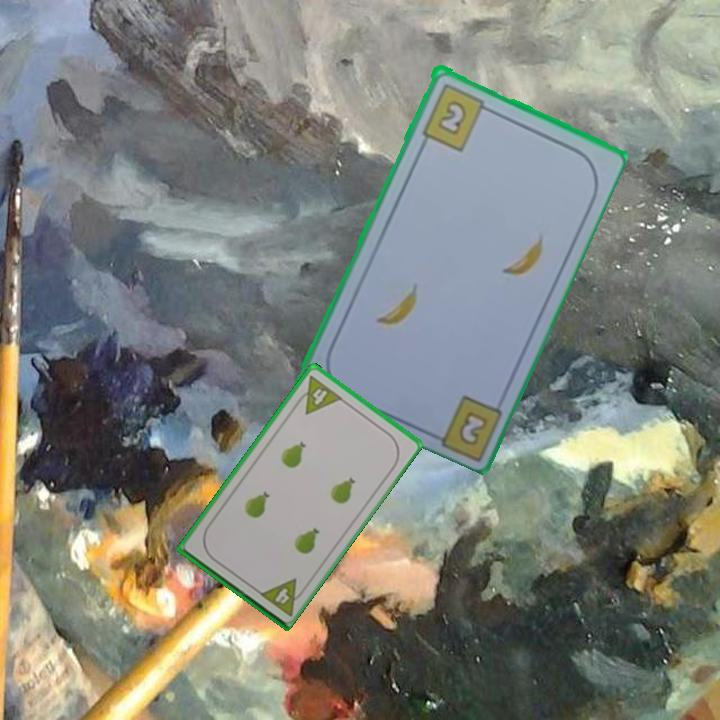2b: (418, 79, 495, 153), (457, 410, 487, 445)
4p: (291, 372, 345, 417), (255, 575, 309, 619)
